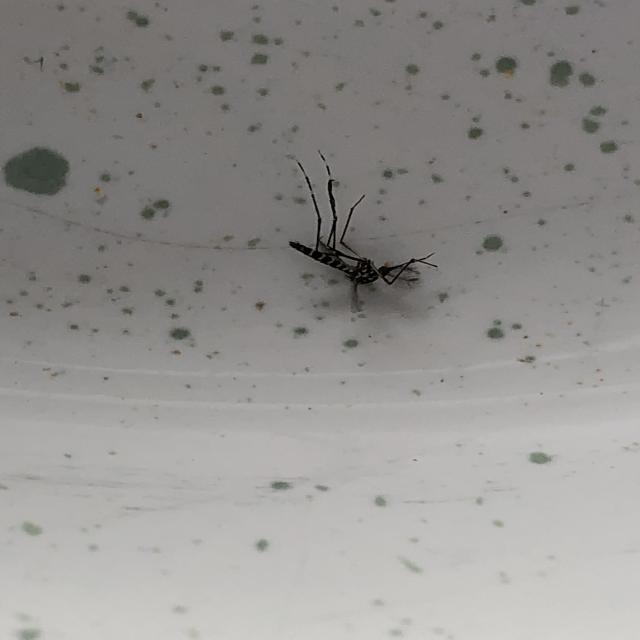albopictus: (261, 142, 441, 310)
